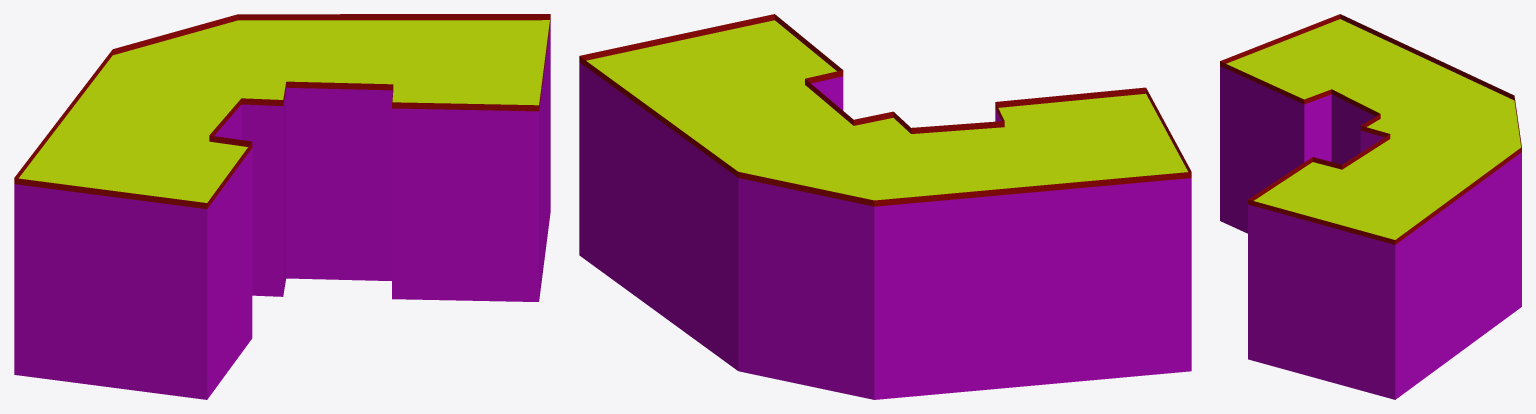
3 views of the same model, side by side, from view 1: azimuth 30°, elevation 25°; view 2: azimuth 150°, elevation 25°; view 3: azimuth 270°, elevation 25° (orthographic). The views are drawn at different scales.
Parts seen in each view (by area): view 1: sc_121; view 2: sc_121; view 3: sc_121.
Boxes of the visible parts, x1,y1,x2,y2 form: sc_121: (14, 14, 550, 399); sc_121: (579, 14, 1191, 399); sc_121: (1220, 14, 1521, 399).
Size of the model in its own units: 33.92 by 11.19 by 19.14.
